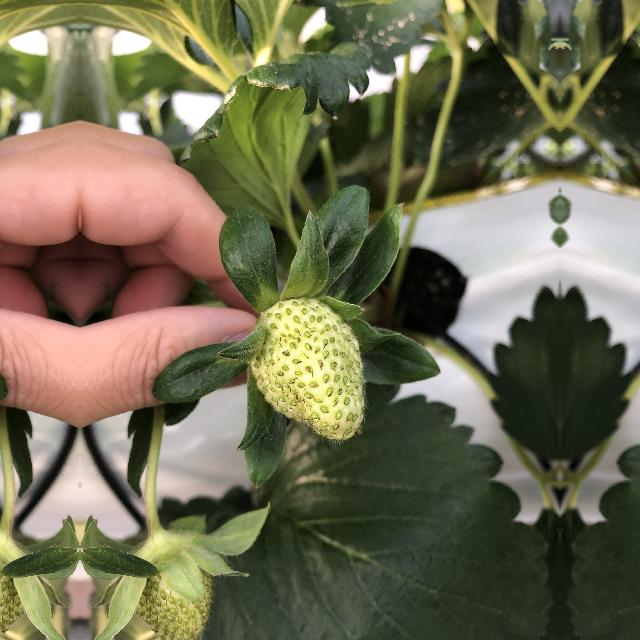Health_25: (249, 289, 373, 443), (134, 553, 212, 639), (0, 553, 26, 639)
